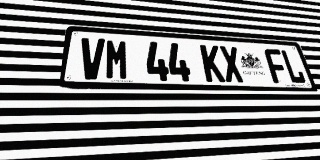4: (145, 41, 170, 81), (166, 43, 191, 81)
F: (263, 48, 290, 83)
K: (200, 45, 226, 82)
L: (280, 49, 307, 84)
M: (105, 39, 129, 80)
V: (78, 37, 105, 80)
X: (219, 46, 245, 82)
